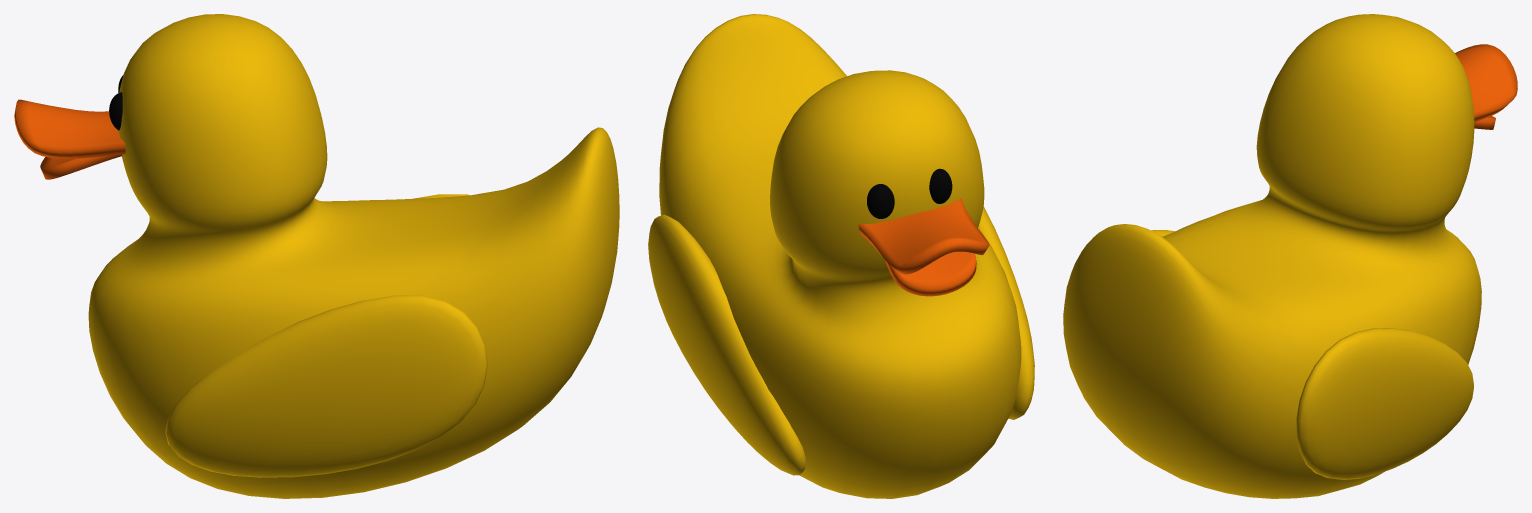
The model's file is Rubber_Duck.fbx.
The picture shows the model from 3 angles, left to right: view 1: azimuth 30°, elevation 25°; view 2: azimuth 150°, elevation 25°; view 3: azimuth 270°, elevation 25°; orthographic projection. The views are drawn at different scales.
Parts seen in each view (by area): view 1: Rubber_Duck_obj_cleaner_materialmerger_gles; view 2: Rubber_Duck_obj_cleaner_materialmerger_gles; view 3: Rubber_Duck_obj_cleaner_materialmerger_gles.
Boxes of the visible parts, box(x1,y1,x2,y2) form: Rubber_Duck_obj_cleaner_materialmerger_gles: box(14, 14, 619, 498); Rubber_Duck_obj_cleaner_materialmerger_gles: box(648, 14, 1034, 498); Rubber_Duck_obj_cleaner_materialmerger_gles: box(1063, 14, 1517, 498).
Bounding box in the file's own units: 329 × 305 × 294.
